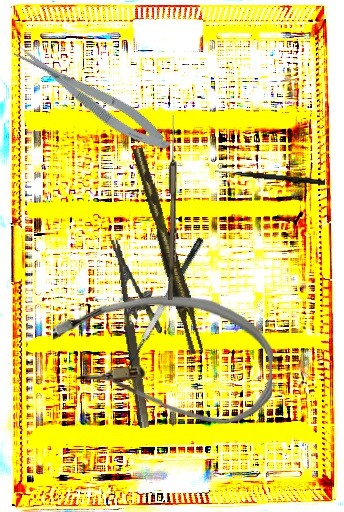Cannula: (51, 293, 274, 427)
Hook Surgical: (214, 169, 326, 185)
Micro Scissor: (9, 35, 177, 161)
Needle Holder: (110, 235, 176, 429)
Spatula Surgical: (113, 235, 217, 387)
Surgical Spoon: (168, 115, 177, 300)
Tissue Forceps: (132, 144, 205, 357)
